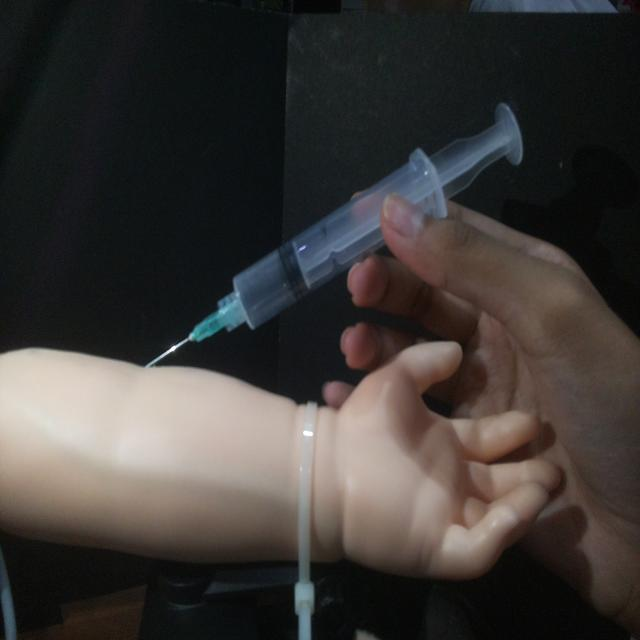27deg: (141, 97, 527, 371)
